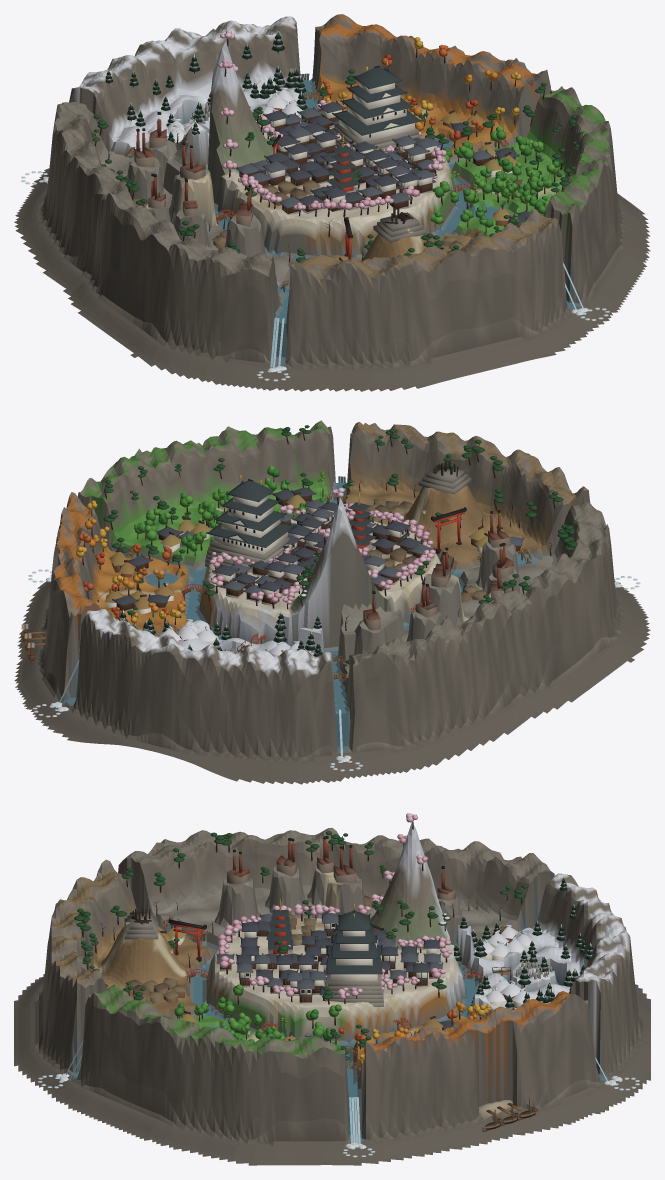
3 renders of one model, top to bottom at view 1: azimuth 30°, elevation 25°; view 2: azimuth 150°, elevation 25°; view 3: azimuth 270°, elevation 25°, orthographic. The views are drawn at different scales.
Visible parts, largest first — view 1: BASE, VILLE_2, VILLE_3, VILLE_4; view 2: BASE, VILLE_2, VILLE_3, VILLE_4; view 3: BASE, VILLE_2, VILLE_3, VILLE_4.
Part boxes in pixels (<box>): BASE: <box>14,14,650,391</box>; VILLE_2: <box>91,66,578,292</box>; VILLE_3: <box>101,54,562,260</box>; VILLE_4: <box>325,135,360,193</box>; BASE: <box>14,420,650,784</box>; VILLE_2: <box>20,435,577,684</box>; VILLE_3: <box>83,479,536,655</box>; VILLE_4: <box>348,492,376,550</box>; BASE: <box>14,813,650,1165</box>; VILLE_2: <box>74,831,571,1132</box>; VILLE_3: <box>110,863,593,1052</box>; VILLE_4: <box>268,899,292,955</box>.
Size of the model in its own units: 71.54 by 25.73 by 76.
